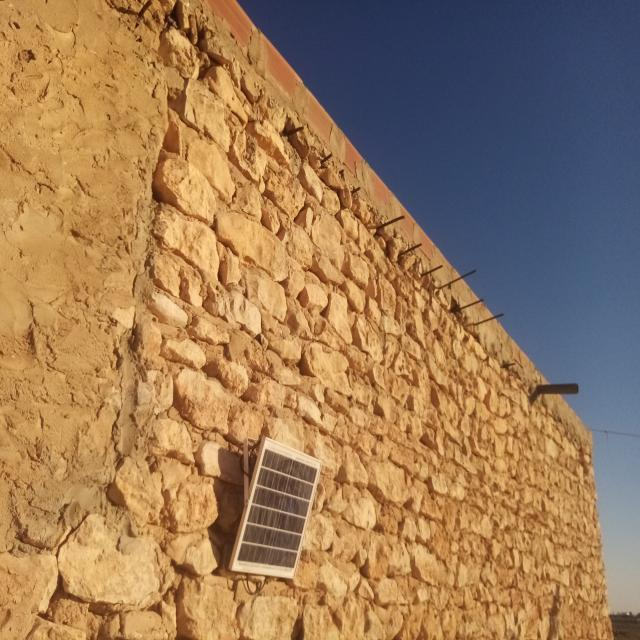faulty: (230, 439, 323, 580)
